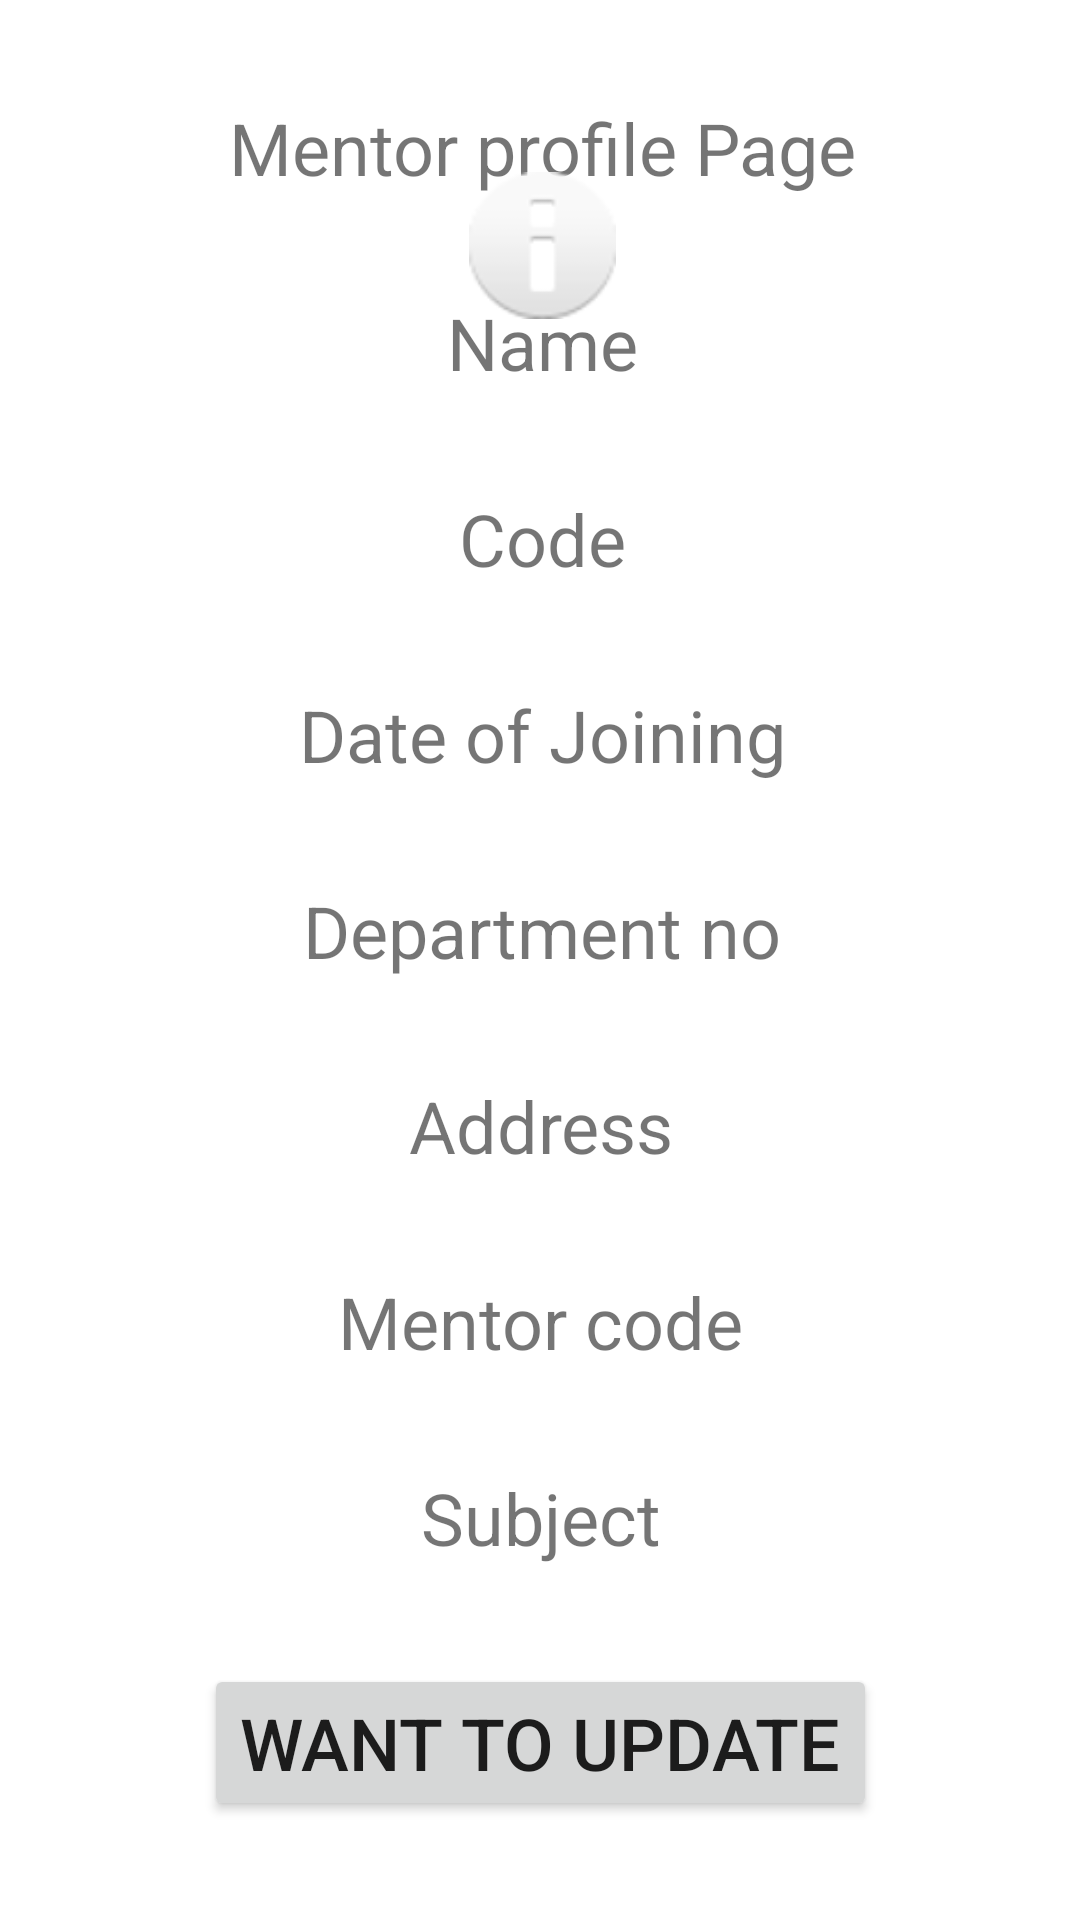

Locate icon controls on the screen. Image size 1080 x 1920, boxes as [x1, y1, x2, y2].
info: [469, 199, 616, 319]
